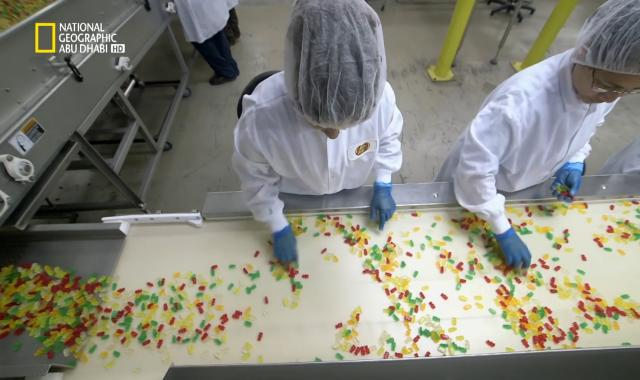hairnet: (287, 0, 391, 138), (570, 0, 640, 74)
